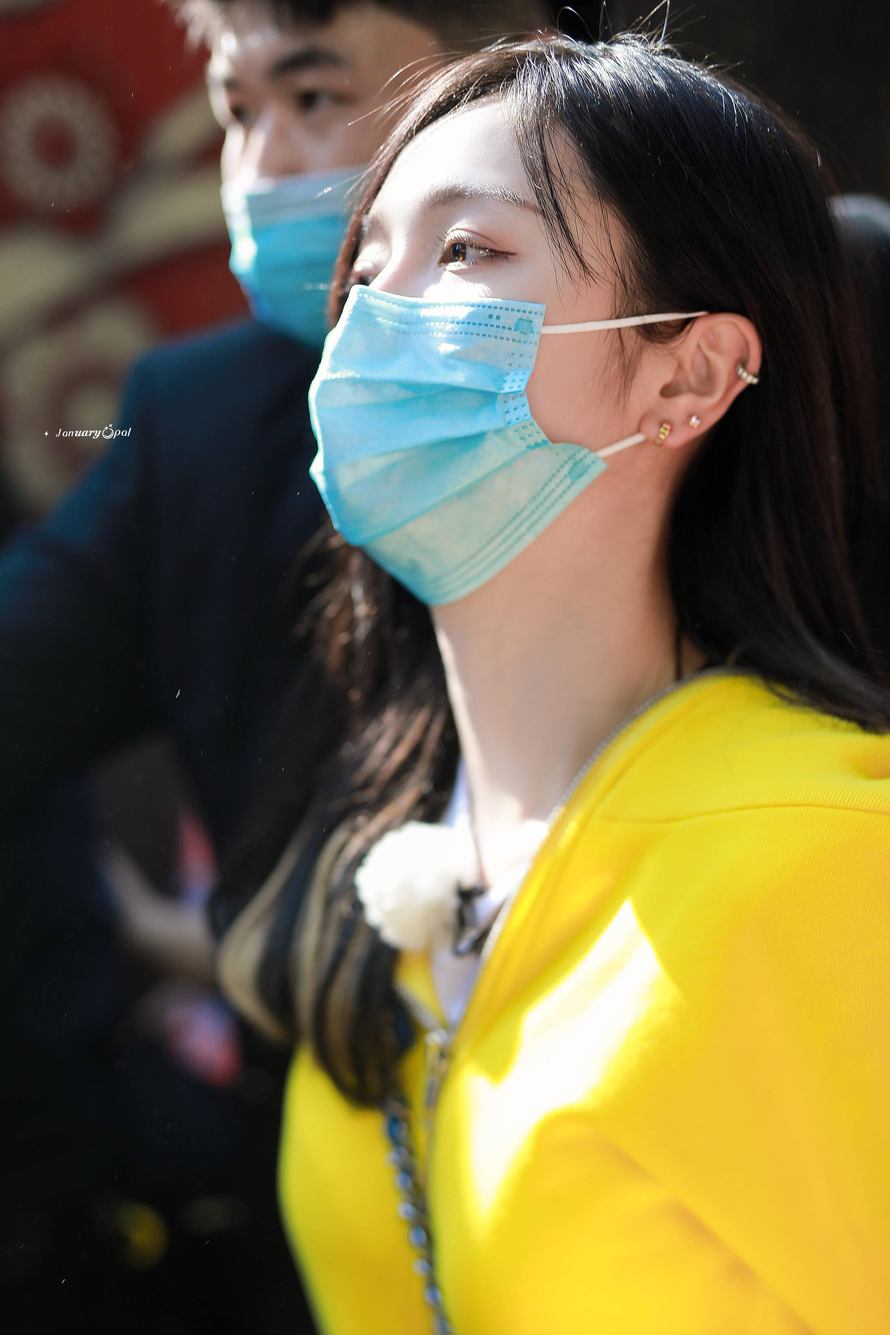OK: (315, 130, 587, 582)
WRONG: (207, 34, 383, 344)
